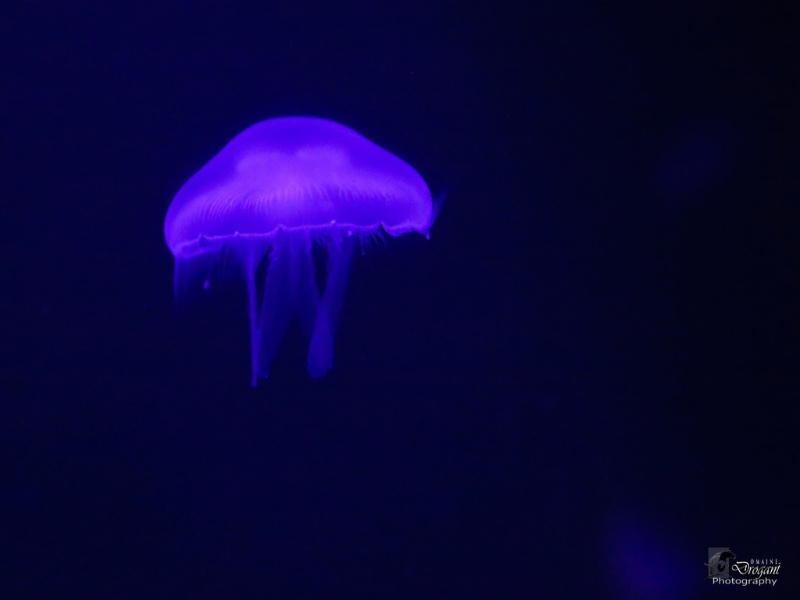Jellyfish: (165, 106, 445, 404)
